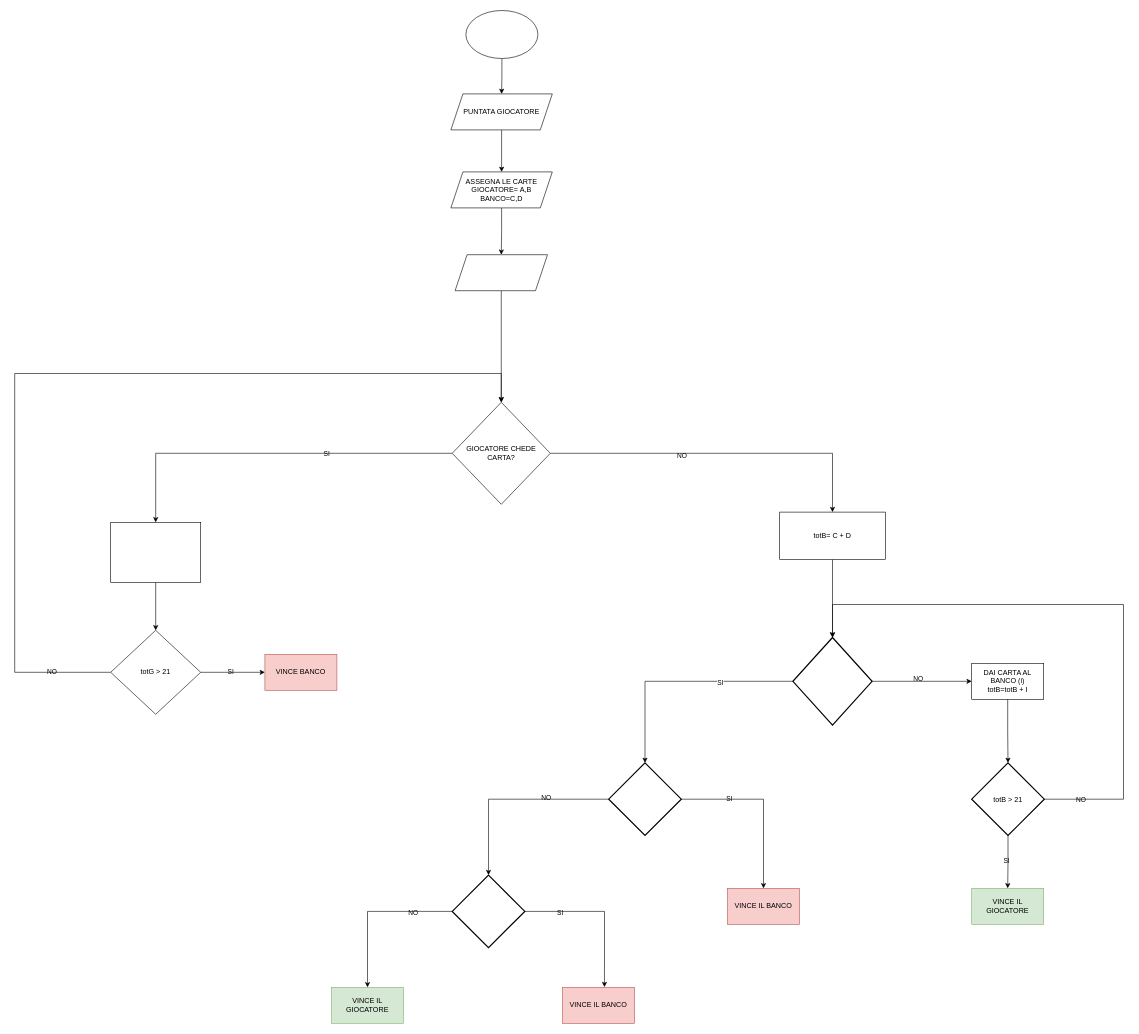
The diagram is 1139 pixels wide and 1034 high, and some of its shapes have lost their labels. The shapes that lost their labels are listed below. From the top down, each one's centre as x and y in pixels, then its label:
point (501, 34): INIZIO
point (501, 272): totG=A + B
point (155, 552): DAI CARTA AL GIOCATORE (i) totG= totG + i
point (832, 681): totB > 17
point (645, 799): totB = totG
point (488, 911): totB > totG
